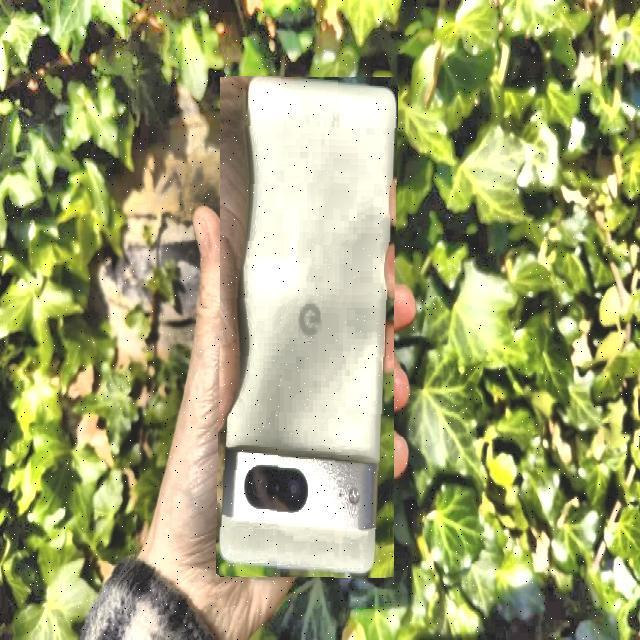Phone: (218, 77, 396, 578)
